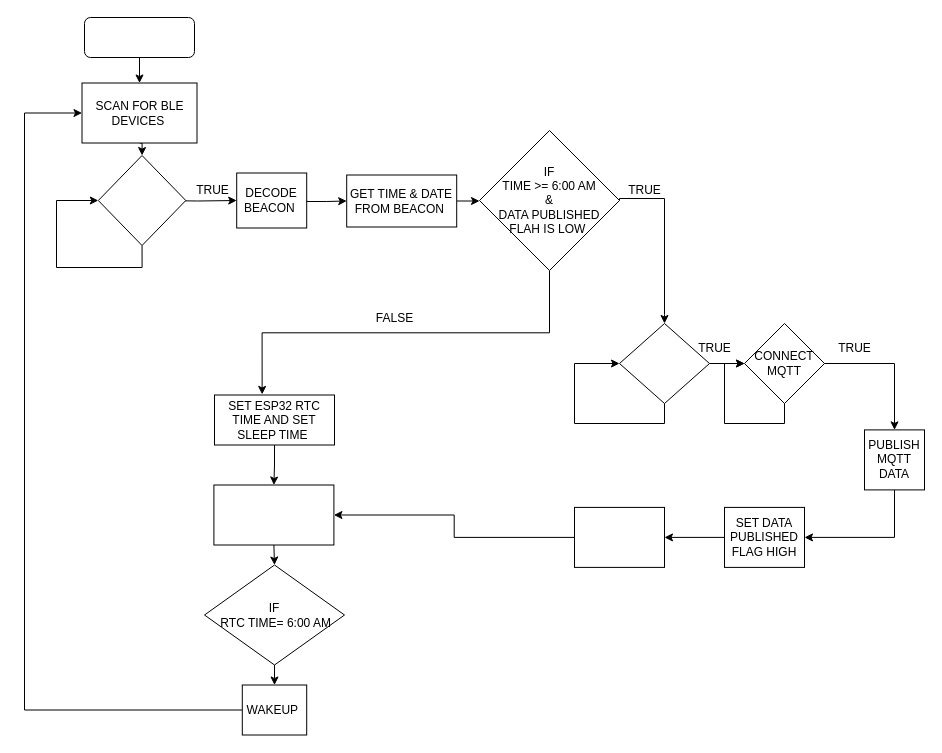
This 942x753 diagram has some shape labels left out. The centre of each missing label's shape, as x and y in pixels:
"CONNECT GSM" belongs at [664,363].
"GO TO DEEP SLEEP" belongs at [273,514].
"IF SIM MINI FOUND" belongs at [141,200].
"SAVE FLAG STATUS IN EEPROM" belongs at [619,536].
"START" belongs at [139,37].
